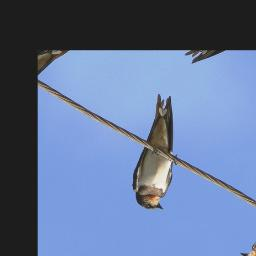Swallow: (99, 90, 221, 218)
